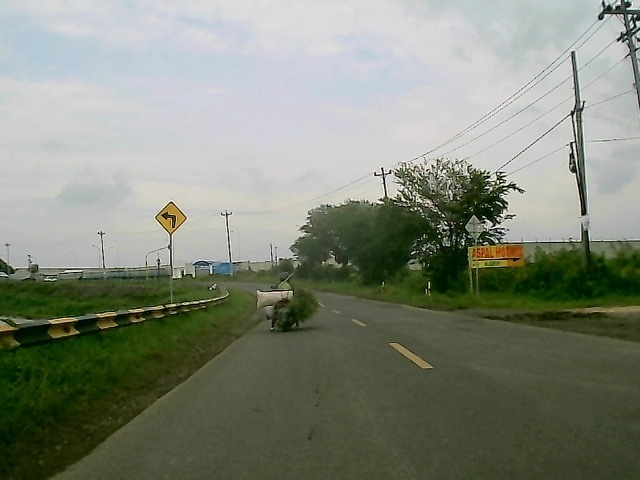Tikungan tajam ke kiri: (154, 199, 188, 236)
